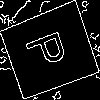P: (24, 25, 76, 72)
